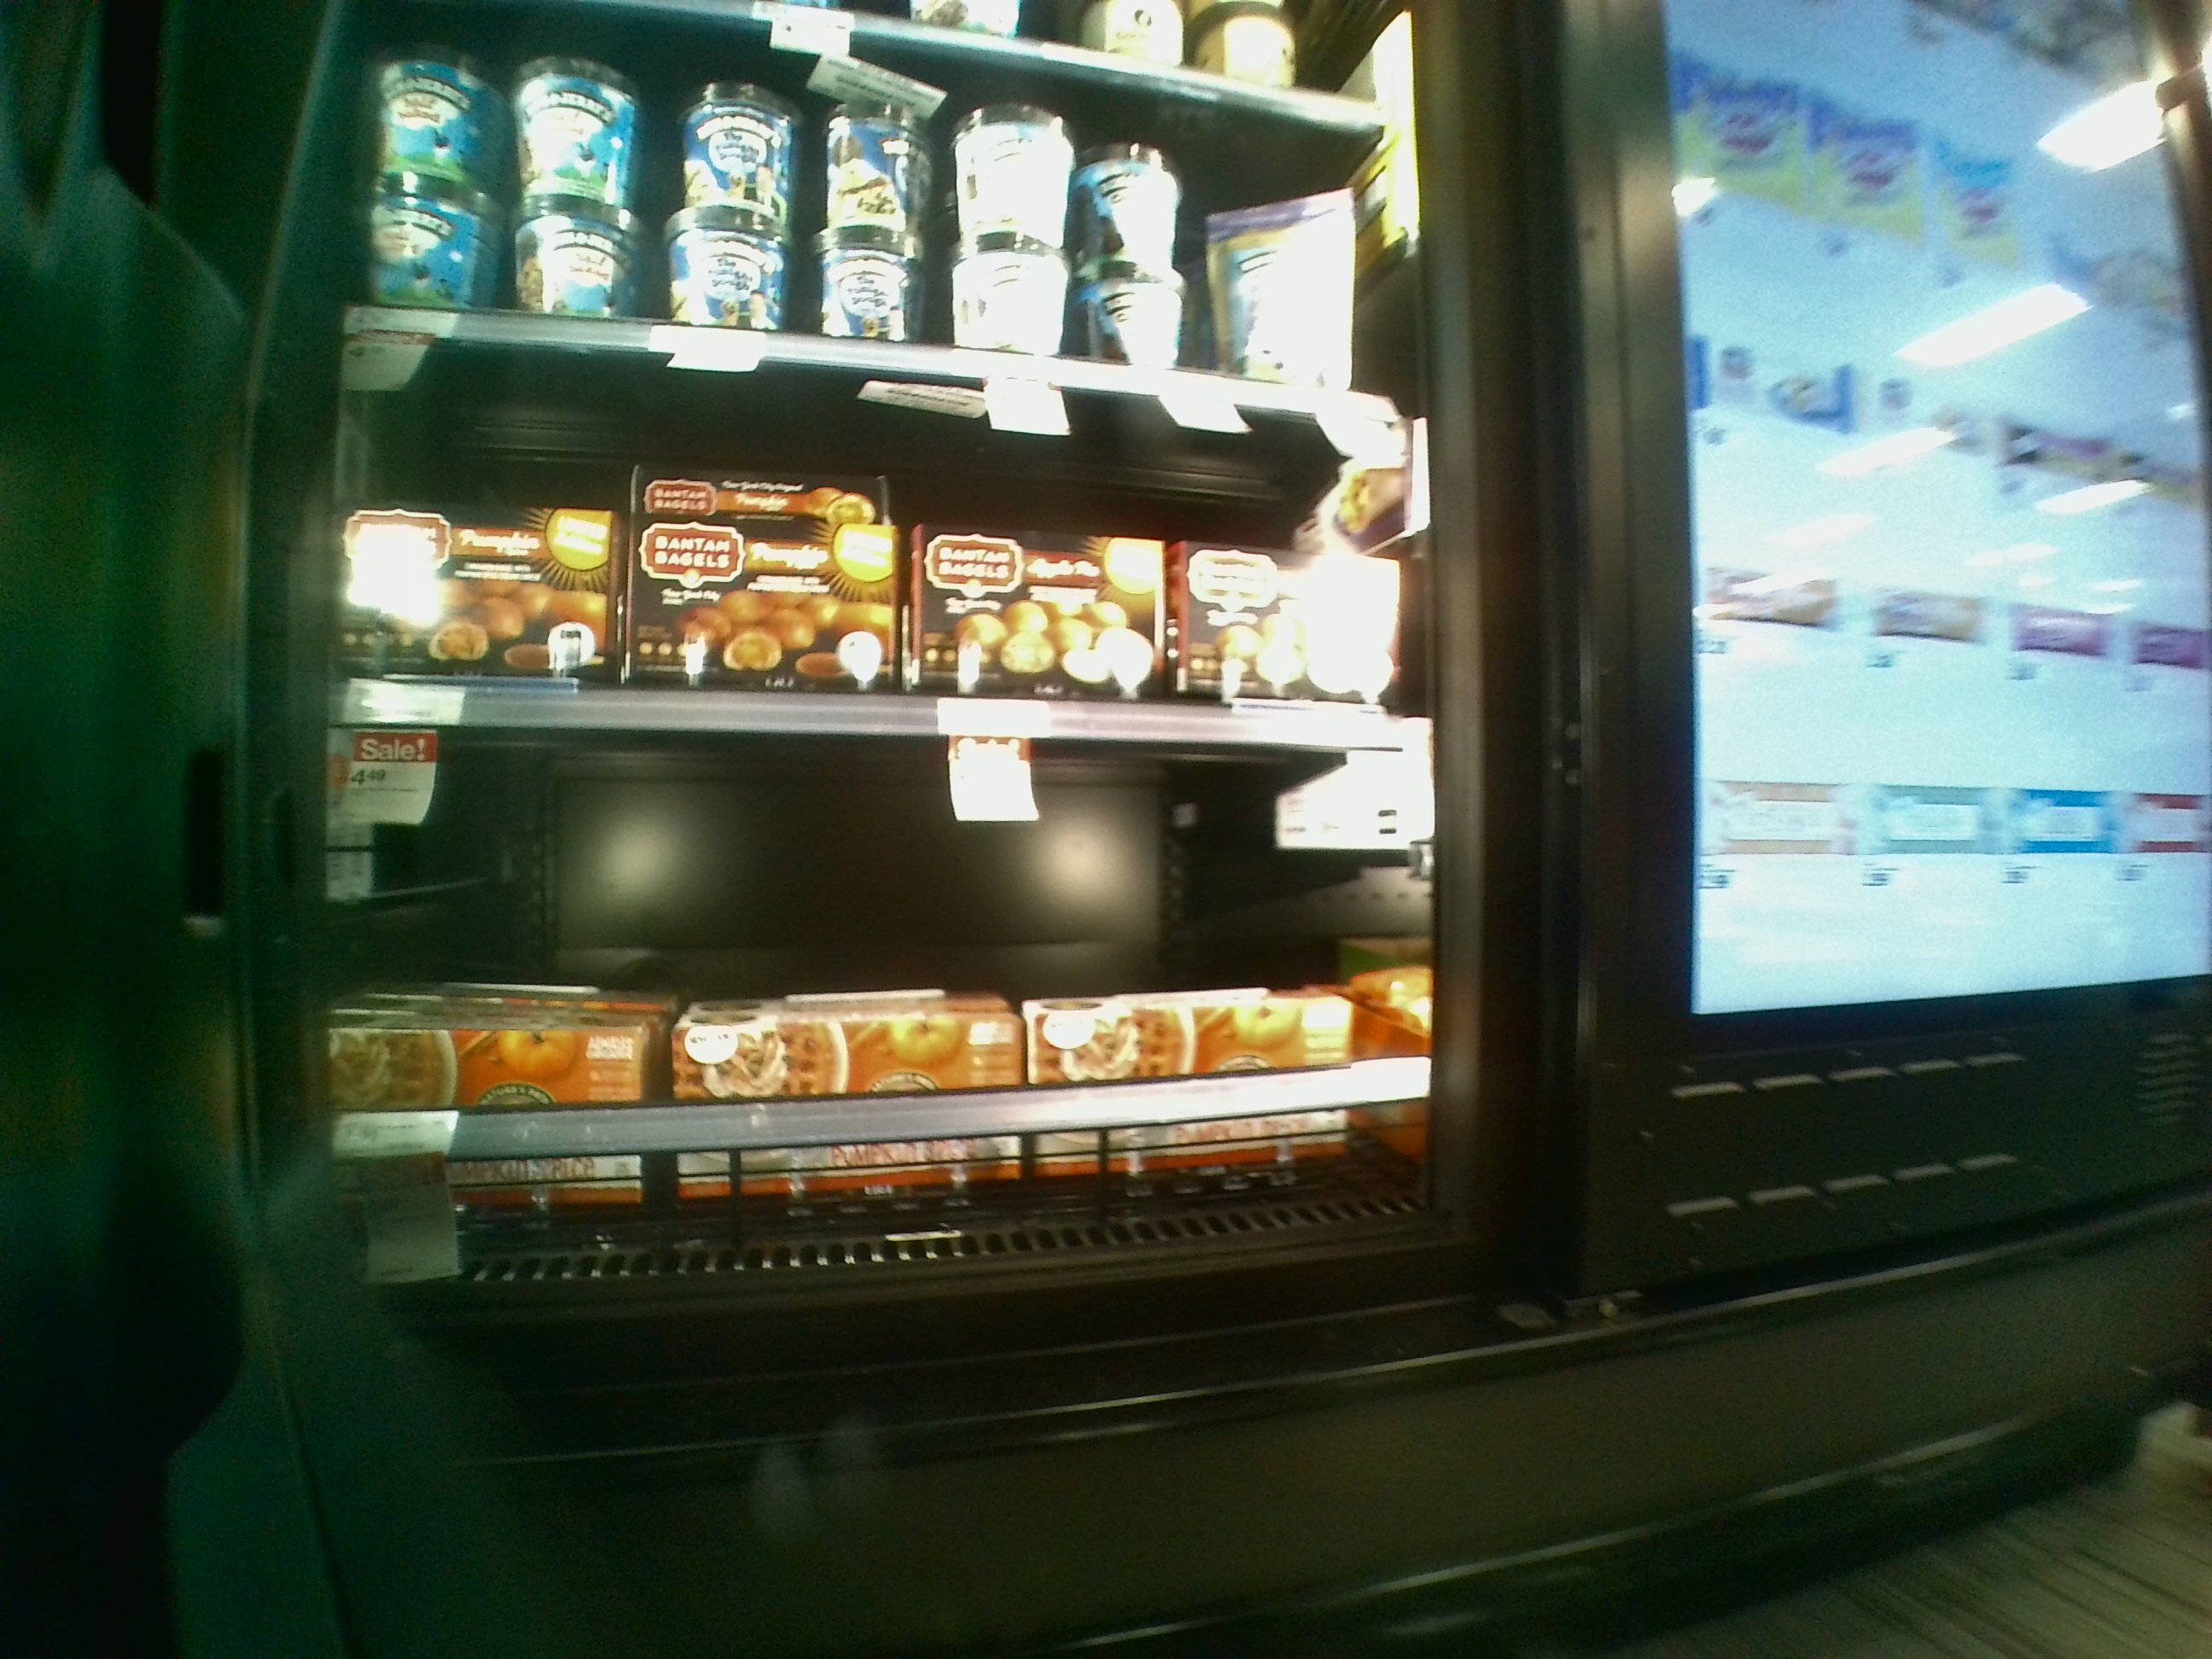shelf: (329, 708, 1428, 1255), (341, 326, 1432, 763)
